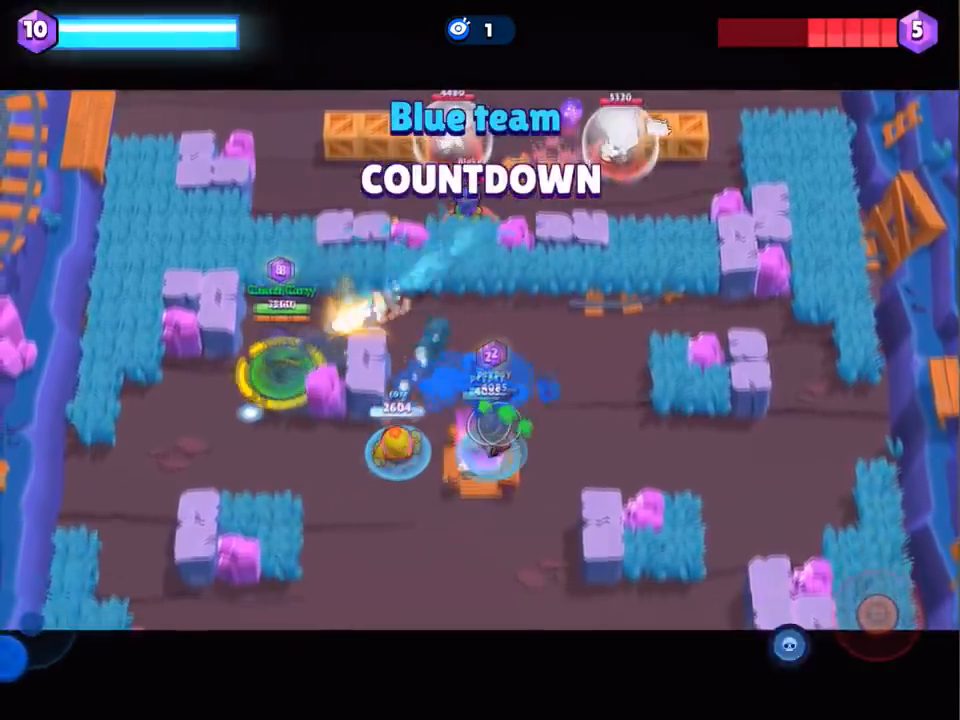move_stick: (1, 630, 29, 685)
red: (420, 91, 492, 179), (586, 90, 652, 178)
